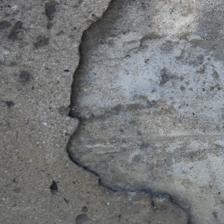Crack: (66, 112, 191, 222), (67, 4, 115, 109)
